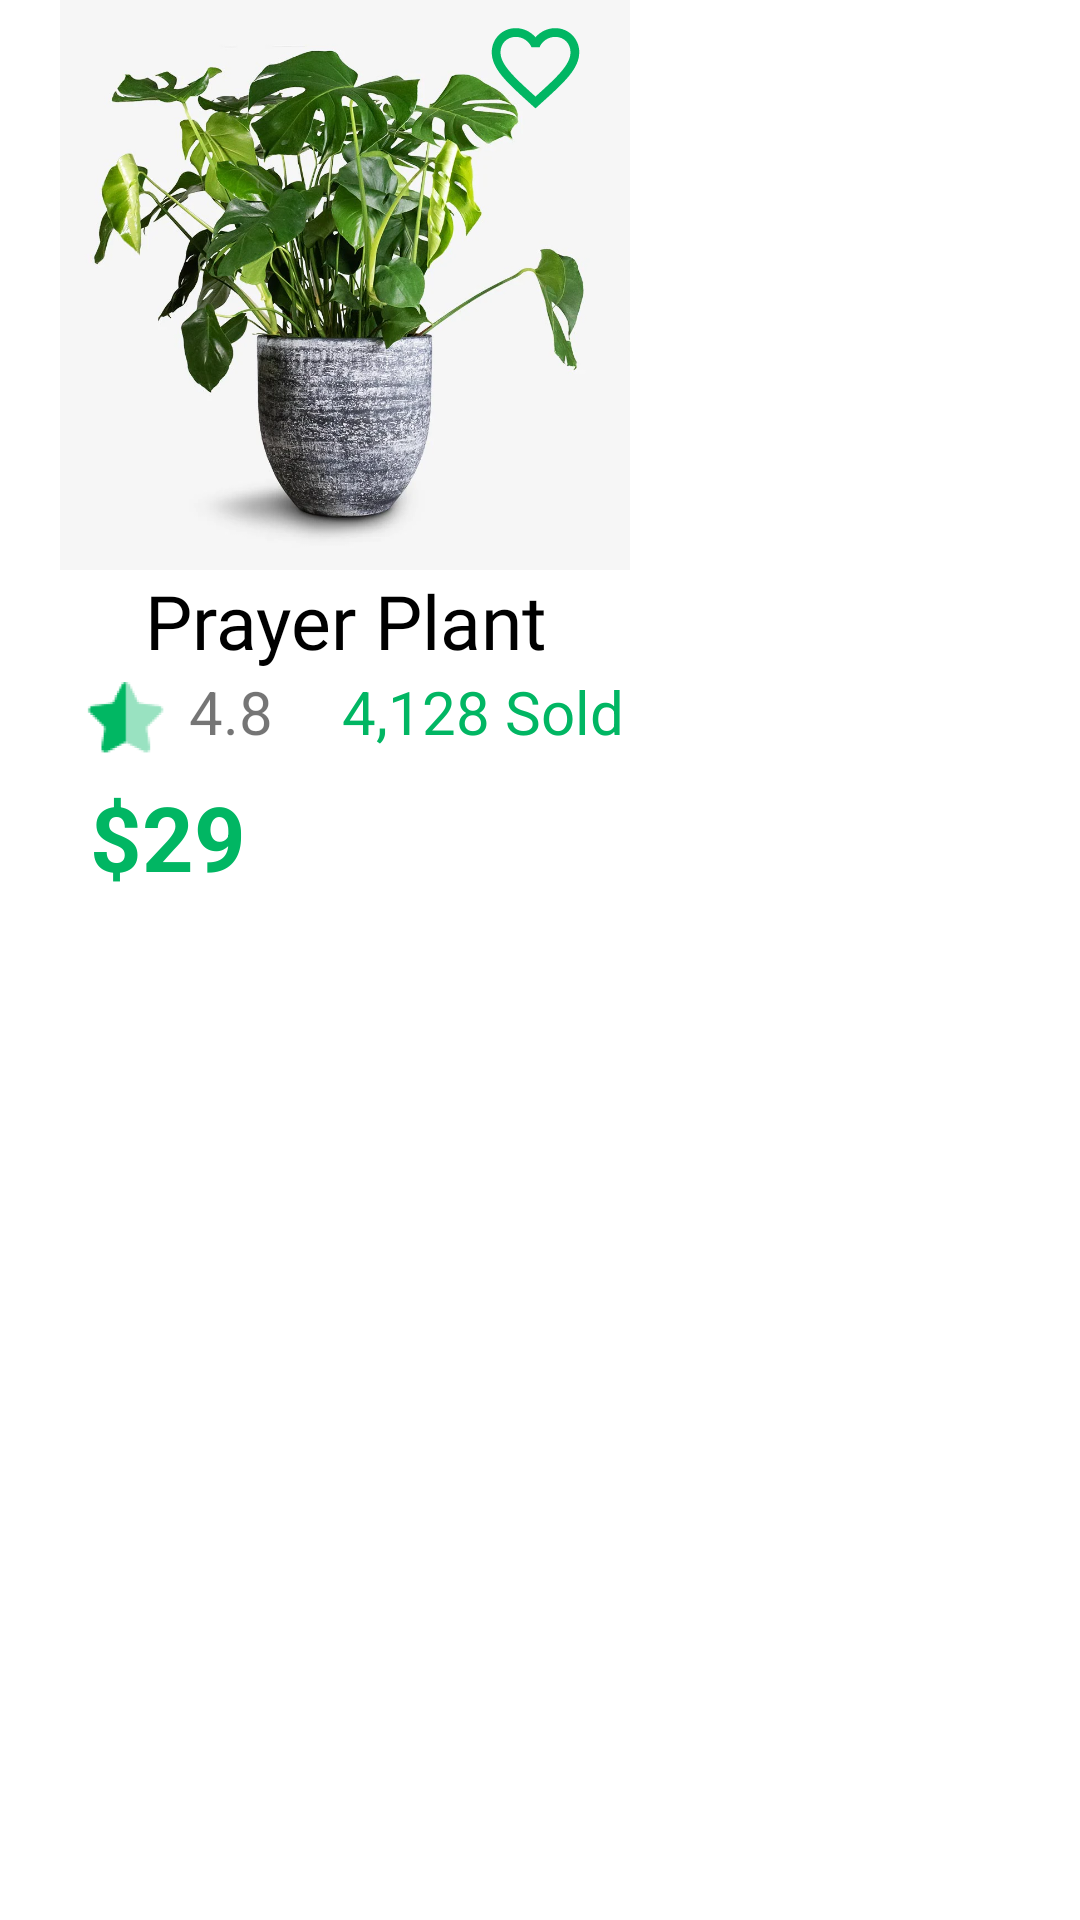

Icons on this 1080 x 1920 Android screen, each with the point to tap as [x,y]:
favorite border: [535,68]
